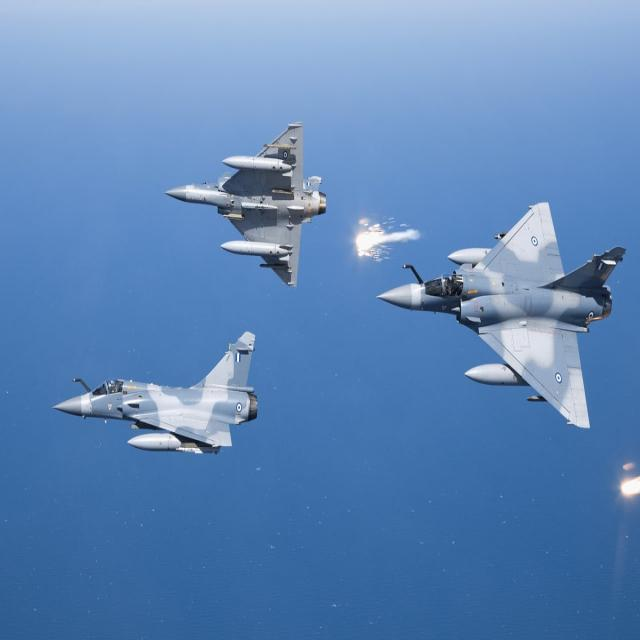MIL_Plane: (375, 202, 627, 429), (164, 121, 327, 288), (52, 331, 258, 454)
